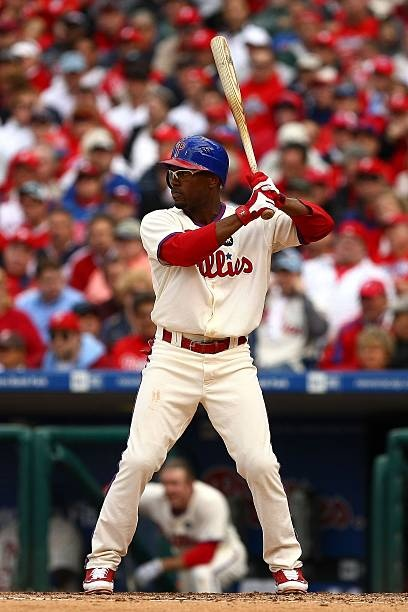bita: (210, 29, 267, 209)
